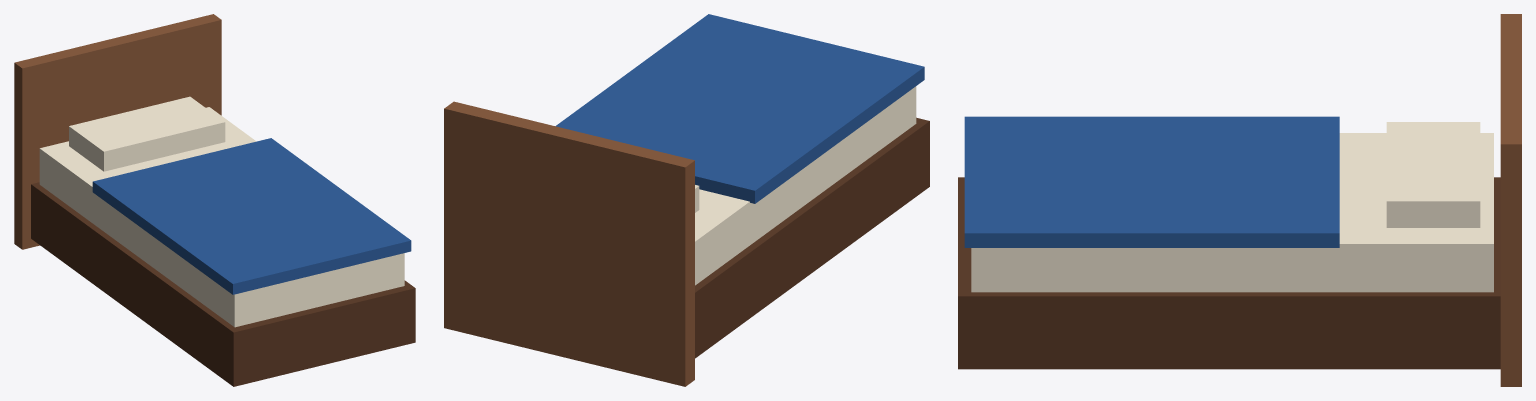
File: bed.glb
3 renders of one model, left to right at view 1: azimuth 30°, elevation 25°; view 2: azimuth 150°, elevation 25°; view 3: azimuth 270°, elevation 25°, orthographic. The views are drawn at different scales.
Visible parts, largest first — view 1: Box3, Box1, Box5, Box2, Box4; view 2: Box5, Box3, Box1, Box2; view 3: Box3, Box1, Box2, Box4, Box5.
Boxes of the visible parts, x1,y1,x2,y2 form: Box3: (92,138,411,294); Box1: (31,182,415,386); Box5: (14,14,221,249); Box2: (39,107,404,327); Box4: (69,96,225,171); Box5: (444,101,694,386); Box3: (555,14,924,203); Box1: (695,117,929,358); Box2: (695,86,916,285); Box3: (964,116,1339,247); Box1: (958,177,1500,369); Box2: (971,133,1493,292); Box4: (1386,122,1480,227); Box5: (1500,14,1521,386).
Bounding box in the file's own units: 1.15 × 1 × 2.1.
